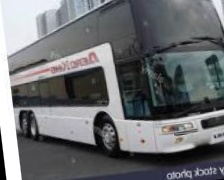bus: (2, 0, 224, 176)
